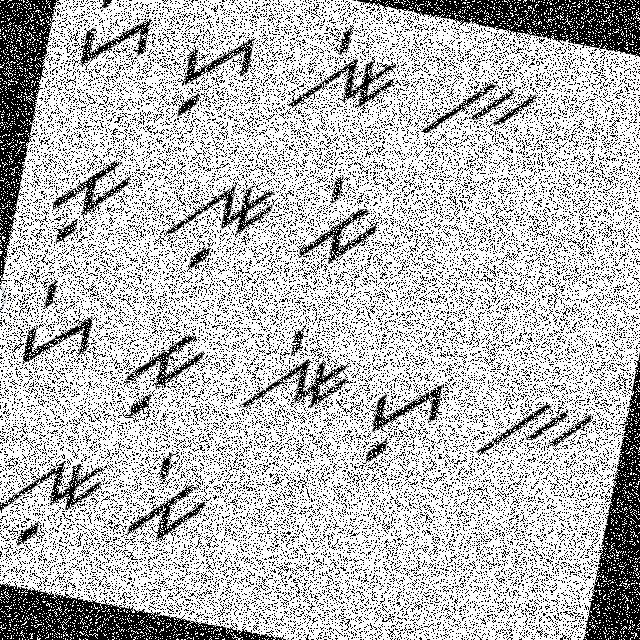he: (10, 270, 116, 382), (60, 0, 167, 87)
hu: (163, 12, 266, 132), (352, 361, 451, 481)
mbe: (120, 440, 222, 560), (290, 168, 393, 276)
mbu: (107, 307, 213, 429), (38, 139, 141, 260)
nde: (223, 312, 365, 441), (278, 16, 405, 134)
ndu: (148, 165, 282, 292), (0, 440, 117, 567)
